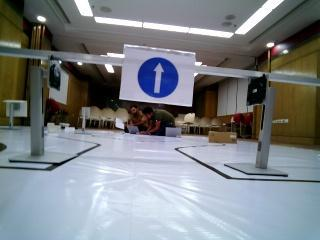straight: (125, 45, 198, 108)
